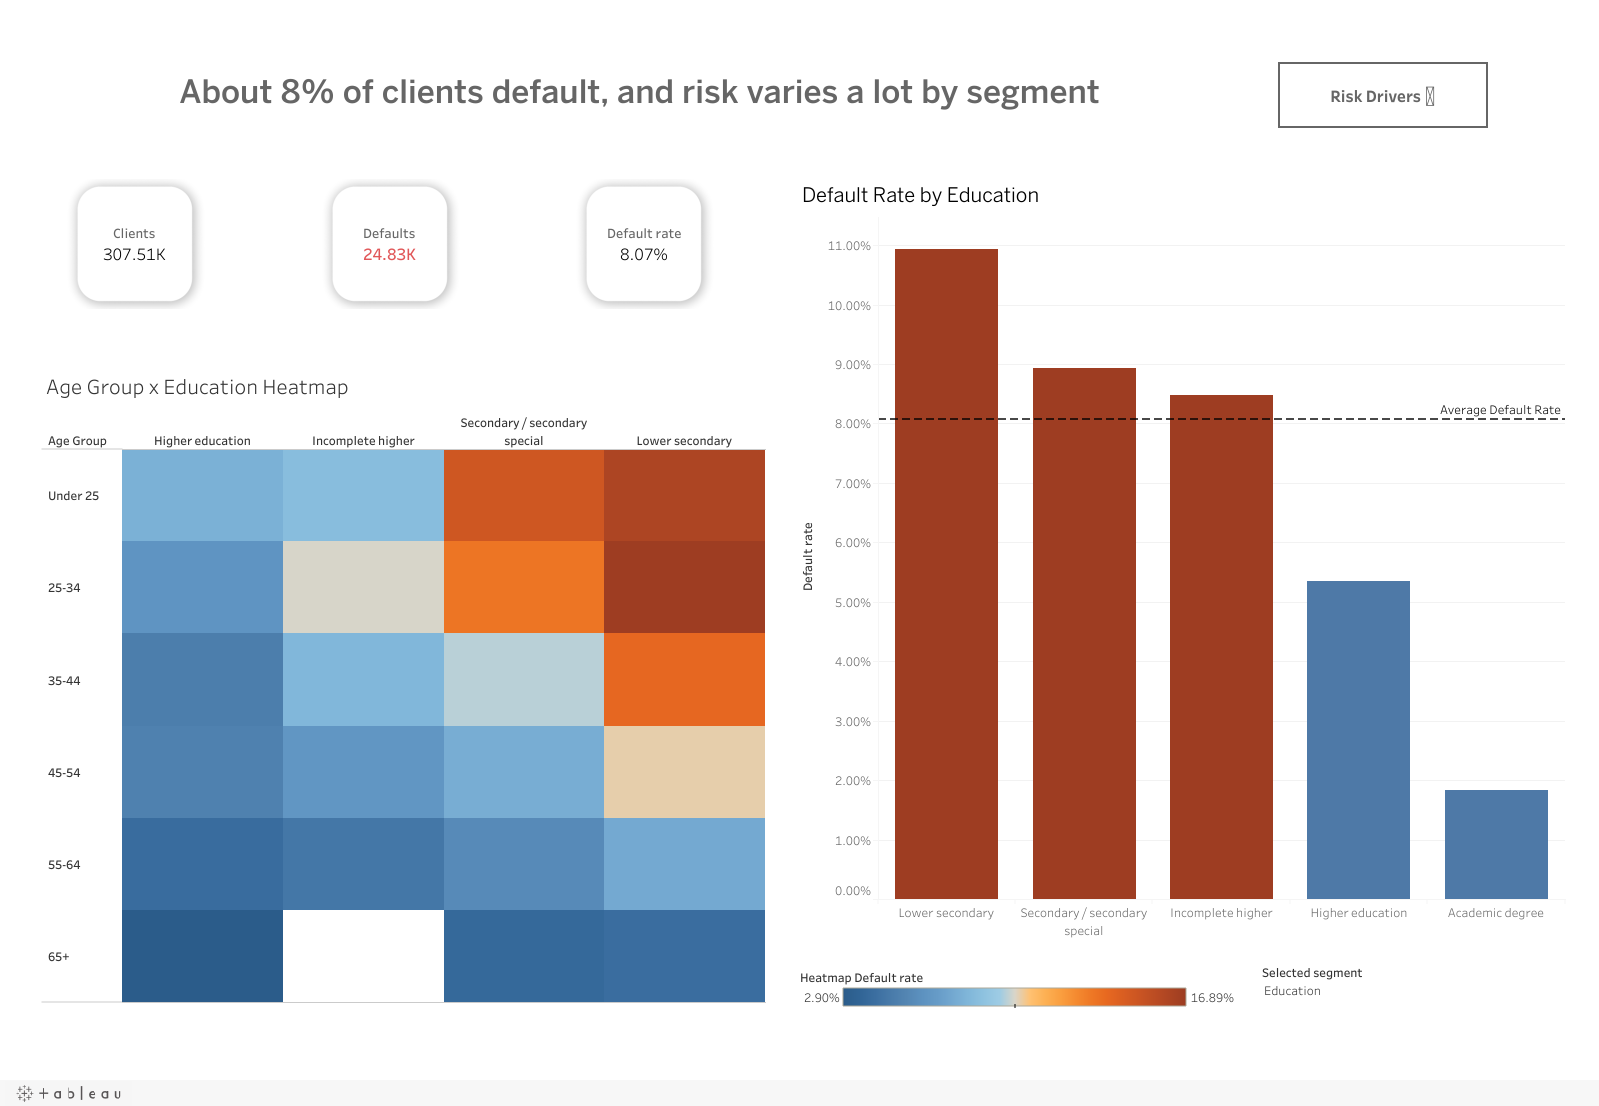

What the dashboard file says about the page in this screenshot:
{"tool":"tableau","page":{"name":"Portfolio overview","canvas":[1000,1000],"units":"permille","ordinal":1},"visuals":[{"type":"title","box":[2.5,27,794.7,115.2]},{"type":"dashboard-object","box":[799,57.6,131.1,61.1]},{"type":"worksheet","title":"KPIs","mark":"Shape","cols":["Calculation_0415400470167557","Calculation_0415400470175751","Calculation_0415400470929418"],"box":[5,151.6,478.1,188]},{"type":"worksheet","title":"Default rate by income type","mark":"Automatic","rows":["Calculation_0234805708419072"],"cols":["Calculation_1178187052748802"],"box":[498.4,162.2,479.9,707.4]},{"type":"worksheet","title":"Heatmap Age Group","mark":"Automatic","rows":["age_group"],"cols":["Calculation_1178187052748802"],"box":[26,338.4,452.7,589.9]},{"type":"parameter","param":"[Parameters].[Parameter 1178187052257281]","box":[788.8,890.7,189.6,67.4]},{"type":"legend","title":"Heatmap Age Group","param":"[federated.16ii90c039m3ej1cq737a1avjjib].[usr:Calculation_0234805708419072:qk]","box":[500,893,274.4,65.1]}]}

Visuals, with their boxes on the dashboard's canvas, which has no fixed pixel size, in thousandths of its width and height (x1, y1, x2, y2). These are canvas units, not pixel positions in the 1599x1106 screenshot, which may show the page scaled, cropped or inside an application window:
title: locate(2, 27, 797, 142)
dashboard-object: locate(799, 58, 930, 119)
"KPIs" worksheet (Shape marks): locate(5, 152, 483, 340)
"Default rate by income type" worksheet: locate(498, 162, 978, 870)
"Heatmap Age Group" worksheet: locate(26, 338, 479, 928)
parameter: locate(789, 891, 978, 958)
"Heatmap Age Group" legend: locate(500, 893, 774, 958)
